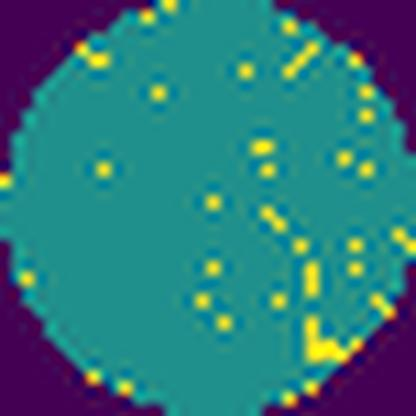Loc: (306, 316, 362, 362)
